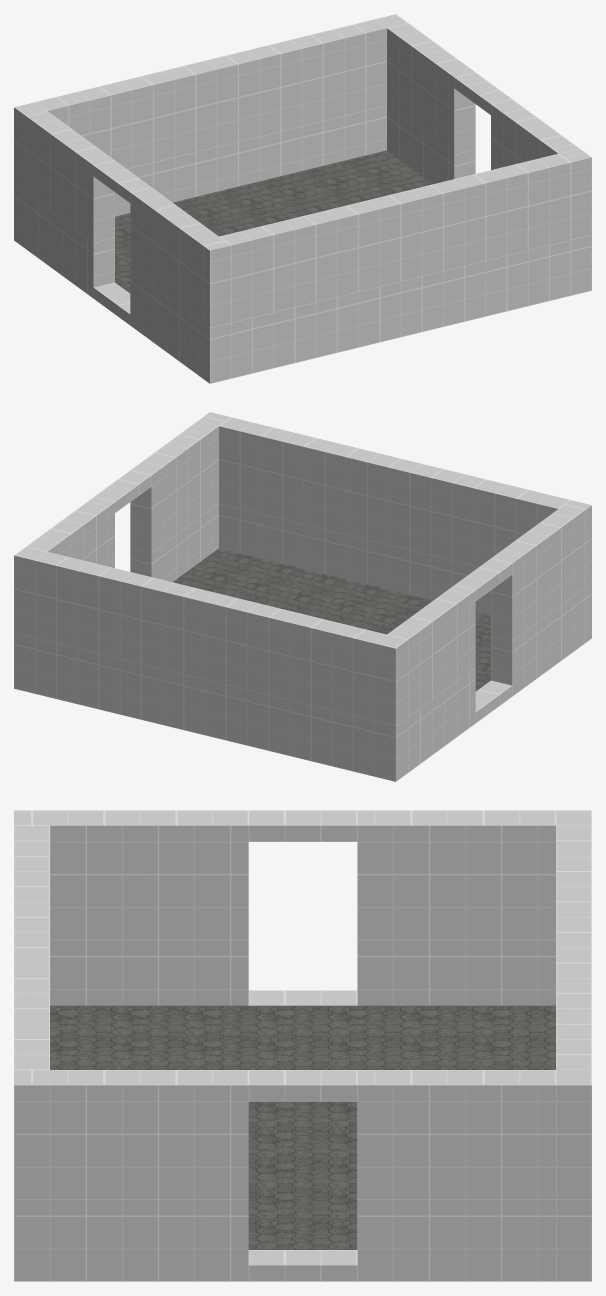
File: EastWestDoorMRoom.unity_17.obj
3 renders of one model, top to bottom at view 1: azimuth 30°, elevation 25°; view 2: azimuth 150°, elevation 25°; view 3: azimuth 270°, elevation 25°, orthographic. The views are drawn at different scales.
Visible parts, largest first — view 1: UpperWallE, UpperWallW, LowerWallE, Floor, LowerWallW, UpperWallN4, UpperWallN1, UpperWallN3, UpperWallN2, LowerWallN3, LowerWallN1, LowerWallN2 (+4 smaller); view 2: UpperWallW, UpperWallE, LowerWallW, Floor, LowerWallE, UpperWallN4, UpperWallN2, UpperWallN1, LowerWallN1, LowerWallN3, UpperWallN3, LowerWallN4 (+3 smaller); view 3: Floor, UpperWallN2, UpperWallN4, UpperWallN1, UpperWallN3, LowerWallN4, LowerWallN2, UpperWallW, LowerWallN3, LowerWallN1, UpperWallE, FloorDoorway1 (+5 smaller).
Boxes of the visible parts, x1,y1,x2,y2 form: UpperWallE: (219,148,590,322); UpperWallW: (14,14,407,193); LowerWallE: (197,240,570,383); Floor: (115,150,432,293); LowerWallW: (115,106,386,216); UpperWallN4: (130,187,231,328); UpperWallN1: (26,111,114,242); UpperWallN3: (387,23,475,154); UpperWallN2: (491,99,591,240); LowerWallN3: (14,185,114,298); LowerWallN1: (130,270,208,378); LowerWallN2: (387,106,475,183); UpperWallW: (14,546,408,726); UpperWallE: (199,412,570,567); LowerWallW: (14,633,395,781); Floor: (173,548,490,691); LowerWallE: (219,504,490,614); UpperWallN4: (491,500,591,640); UpperWallN2: (130,412,230,552); UpperWallN1: (387,585,475,716); LowerWallN1: (491,583,591,696); LowerWallN3: (374,668,475,781); UpperWallN3: (26,497,114,567); LowerWallN4: (130,504,218,581); Floor: (50,1005,555,1249); UpperWallN2: (14,1070,248,1199); UpperWallN4: (14,810,248,940); UpperWallN1: (357,810,555,940); UpperWallN3: (357,1070,555,1199); LowerWallN4: (14,1199,248,1281); LowerWallN2: (357,1199,558,1281); UpperWallW: (556,810,591,1199); LowerWallN3: (357,940,555,1005); LowerWallN1: (50,940,248,1005); UpperWallE: (14,825,49,1199); FloorDoorway1: (248,1250,357,1281).
Size of the model in its own units: 9 by 3.01 by 8.
Materials: 2 (2 with a texture image).
